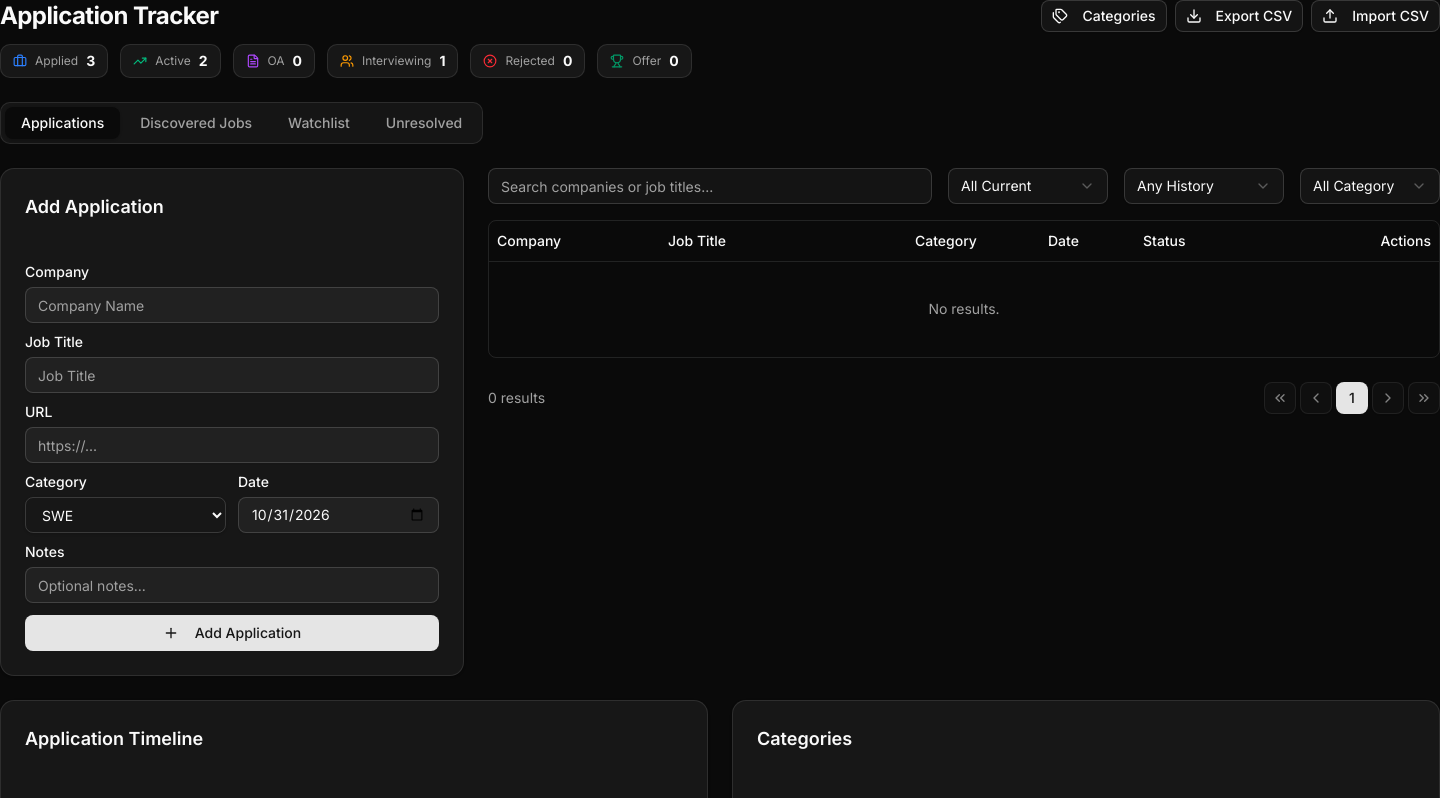
Test: switching to the Discovered Jobs tab shows the discovered view
The image size is (1440, 798).
Click the button "Discovered Jobs" at (196, 123), box [124,107,268,139]
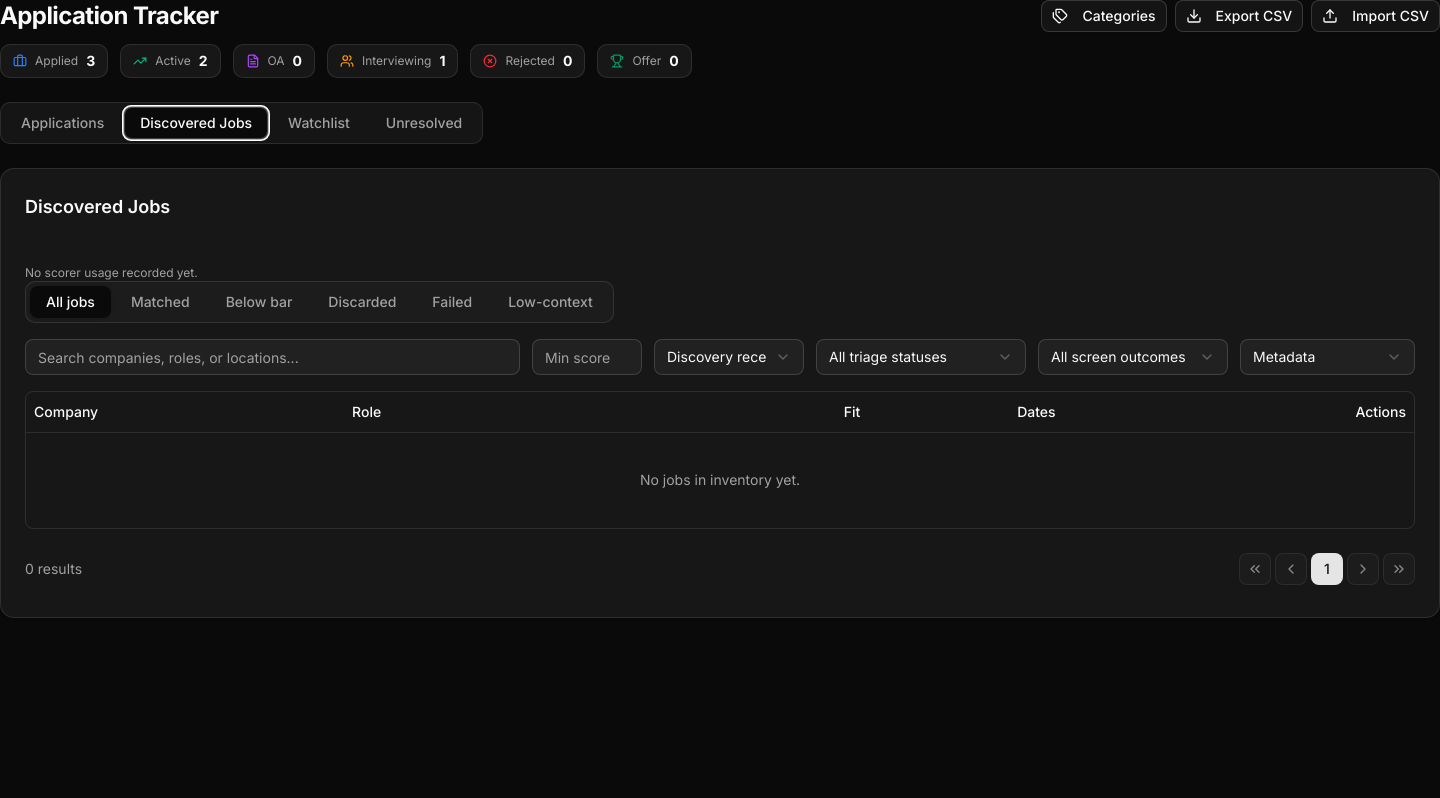
Expected: the field with placeholder "Search companies, roles, or locations..." is shown, [25,339,520,375]
